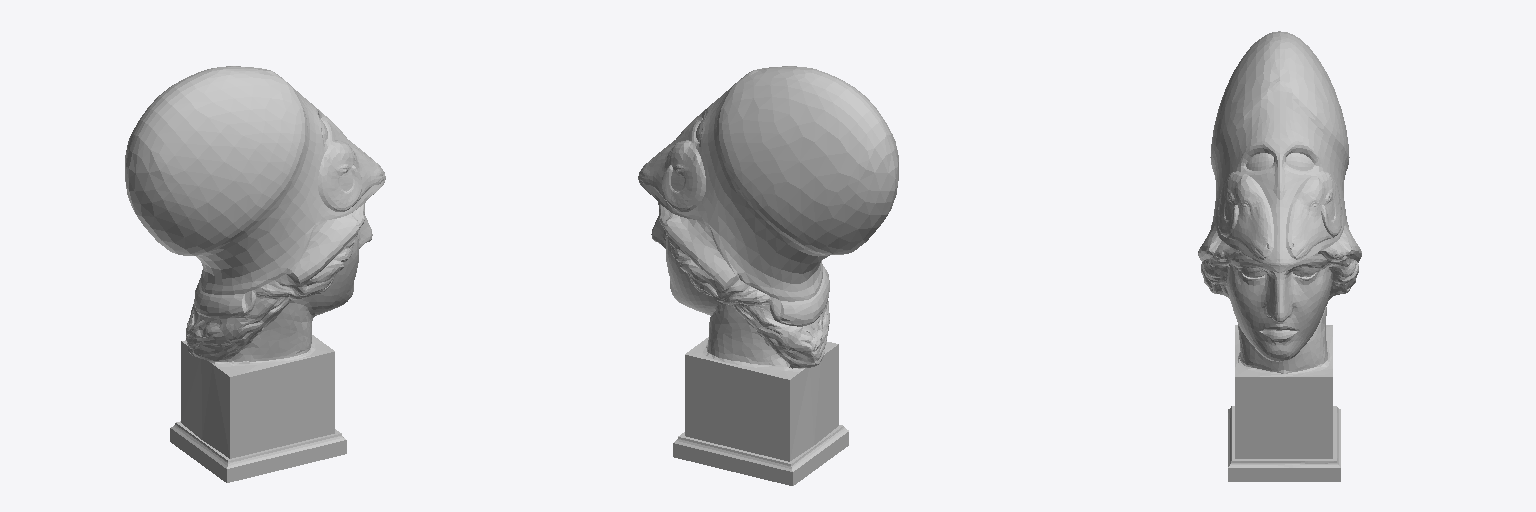
The model's file is atenea.obj.
3 renders of one model, left to right at view 1: azimuth 30°, elevation 25°; view 2: azimuth 150°, elevation 25°; view 3: azimuth 270°, elevation 25°, orthographic.
Visible parts, largest first — view 1: ateneam; view 2: ateneam; view 3: ateneam.
Boxes of the visible parts, x1,y1,x2,y2 form: ateneam: [125, 66, 385, 482]; ateneam: [638, 66, 898, 485]; ateneam: [1198, 31, 1361, 481].
Bounding box in the file's own units: 62.1 × 90.65 × 34.62.